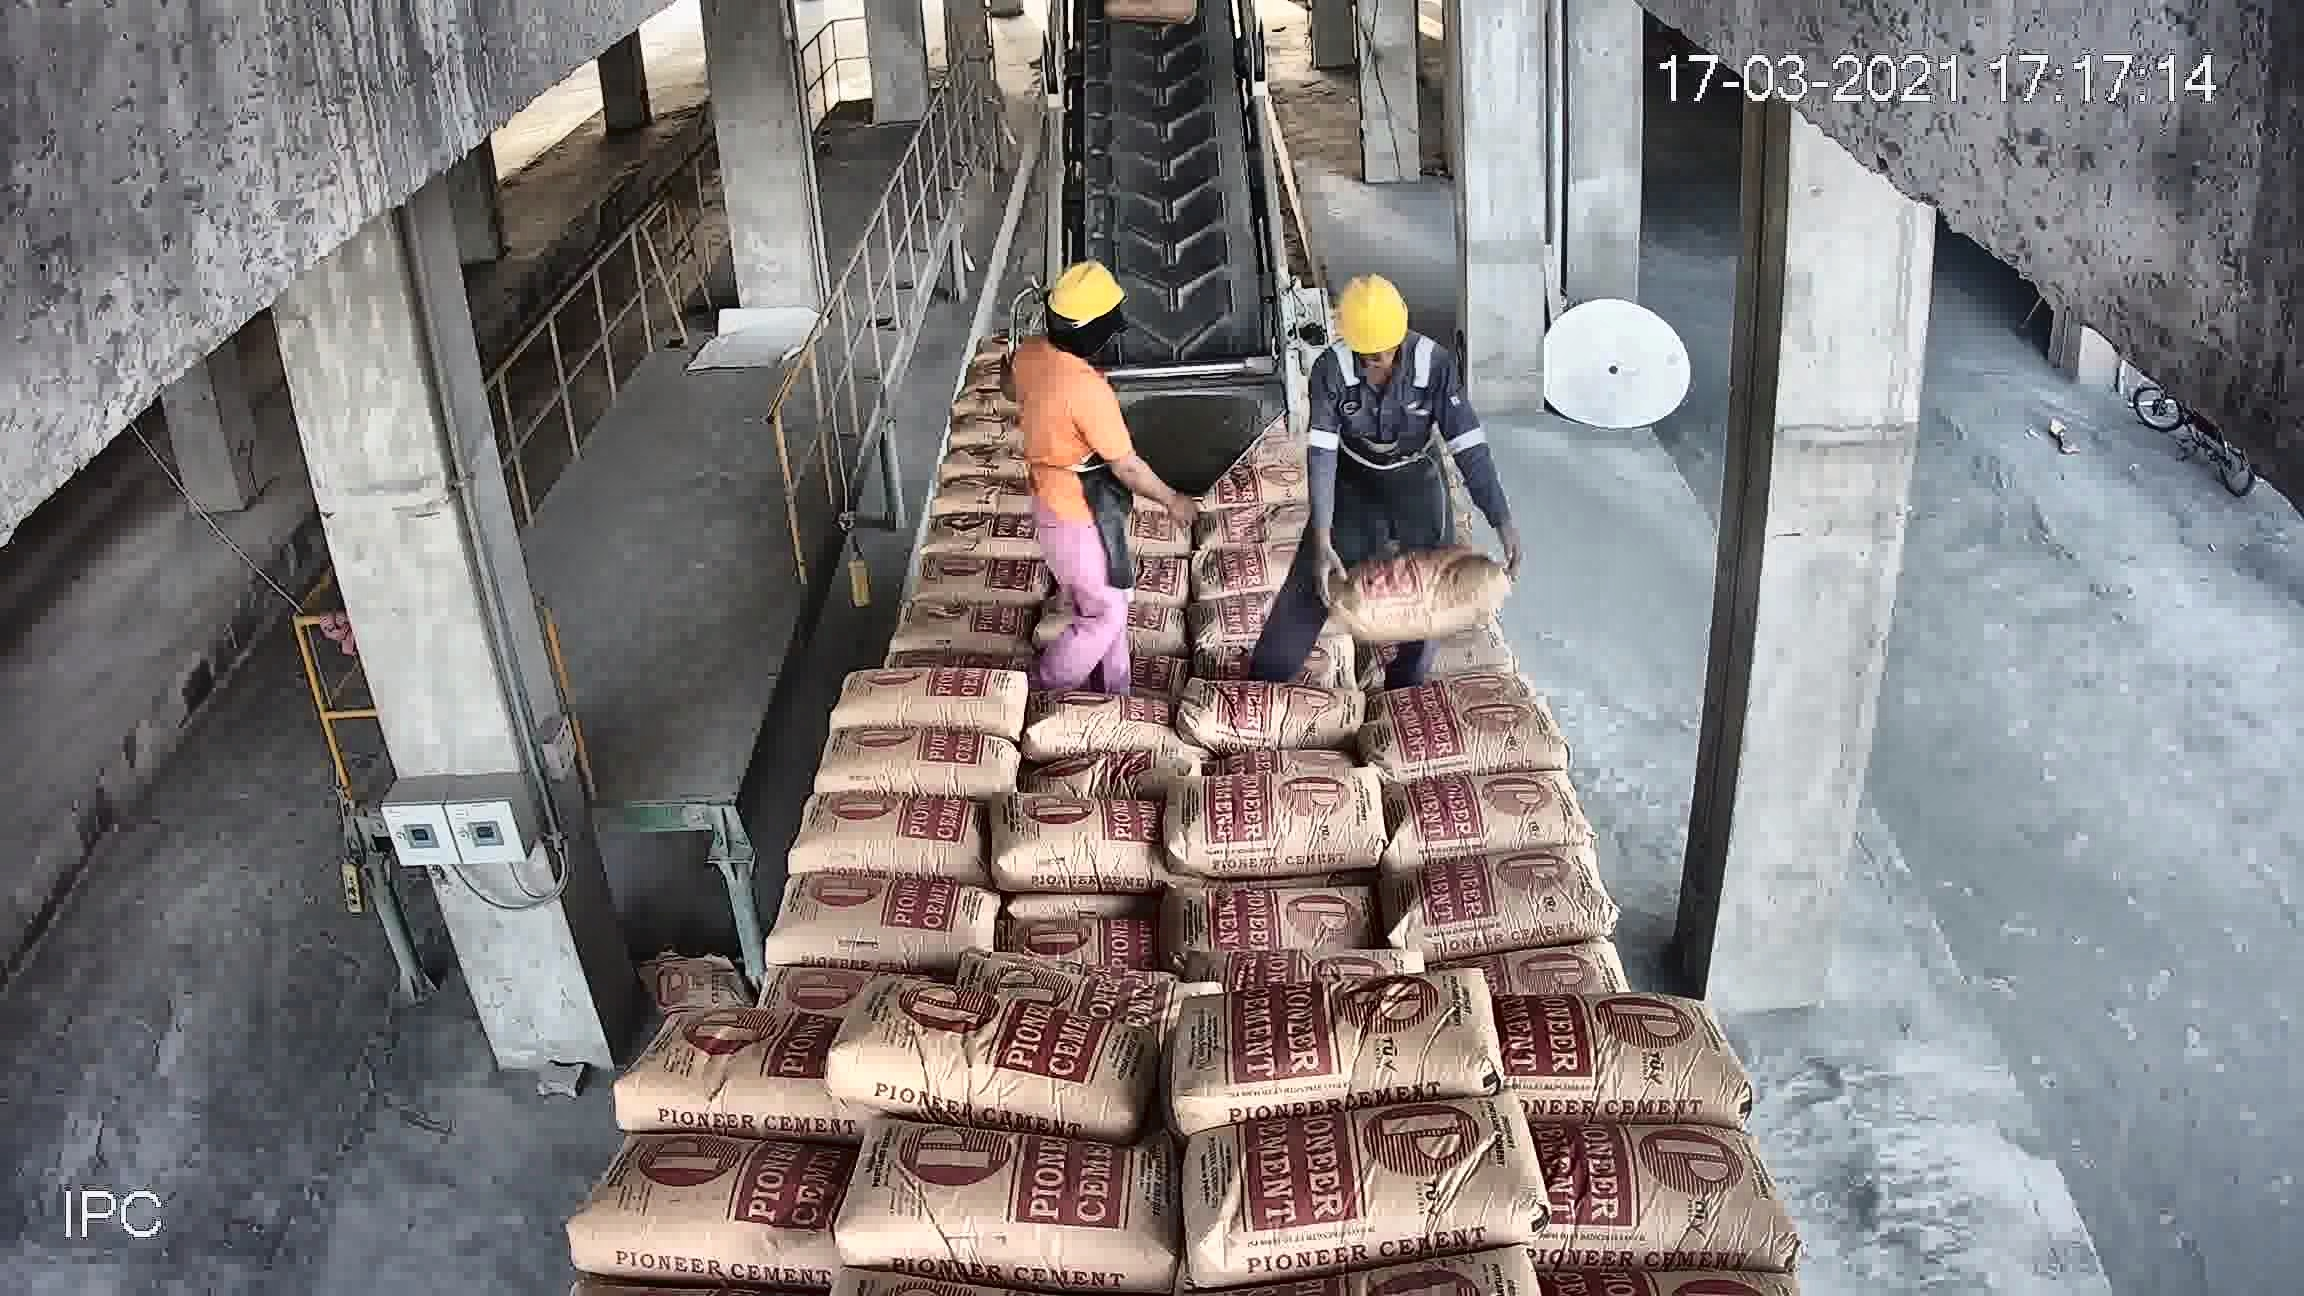bag_h: (1177, 1097, 1541, 1272), (1185, 962, 1514, 1124), (848, 1125, 1169, 1290), (802, 991, 1139, 1124), (574, 1131, 859, 1285), (1525, 1119, 1780, 1272), (1487, 992, 1739, 1128), (614, 1022, 842, 1144), (1174, 766, 1397, 877), (767, 877, 999, 976), (1377, 856, 1601, 949), (1383, 766, 1586, 869), (1324, 543, 1522, 646), (1171, 877, 1378, 972), (794, 783, 987, 880), (1370, 682, 1551, 779), (994, 798, 1161, 897), (812, 728, 1025, 802), (837, 658, 1021, 734), (1006, 885, 1173, 968), (1166, 676, 1355, 744), (1022, 684, 1179, 764), (968, 957, 1188, 1011), (888, 589, 1033, 650), (1386, 668, 1537, 725), (905, 548, 1041, 608), (923, 502, 1041, 567), (1176, 494, 1287, 559), (1179, 541, 1296, 597), (932, 462, 1033, 502)
belt: (1059, 19, 1272, 437)
